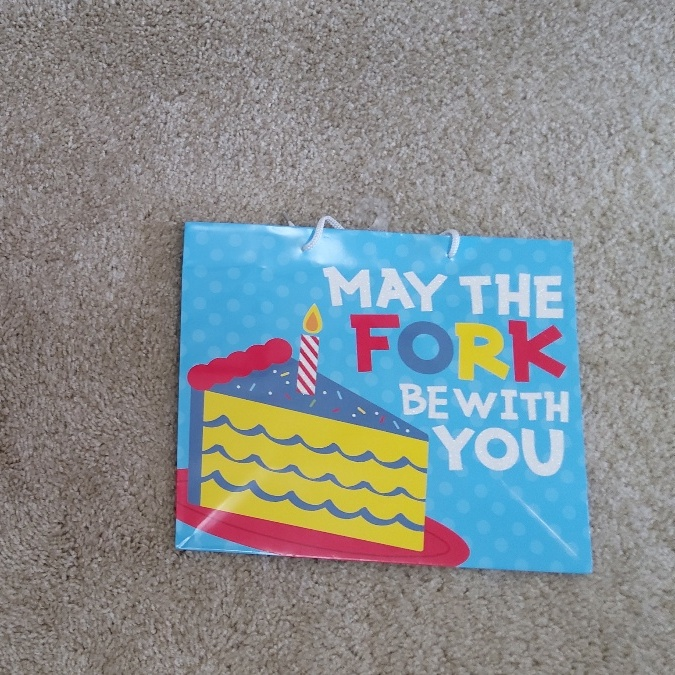paper_bag: (183, 223, 572, 560)
